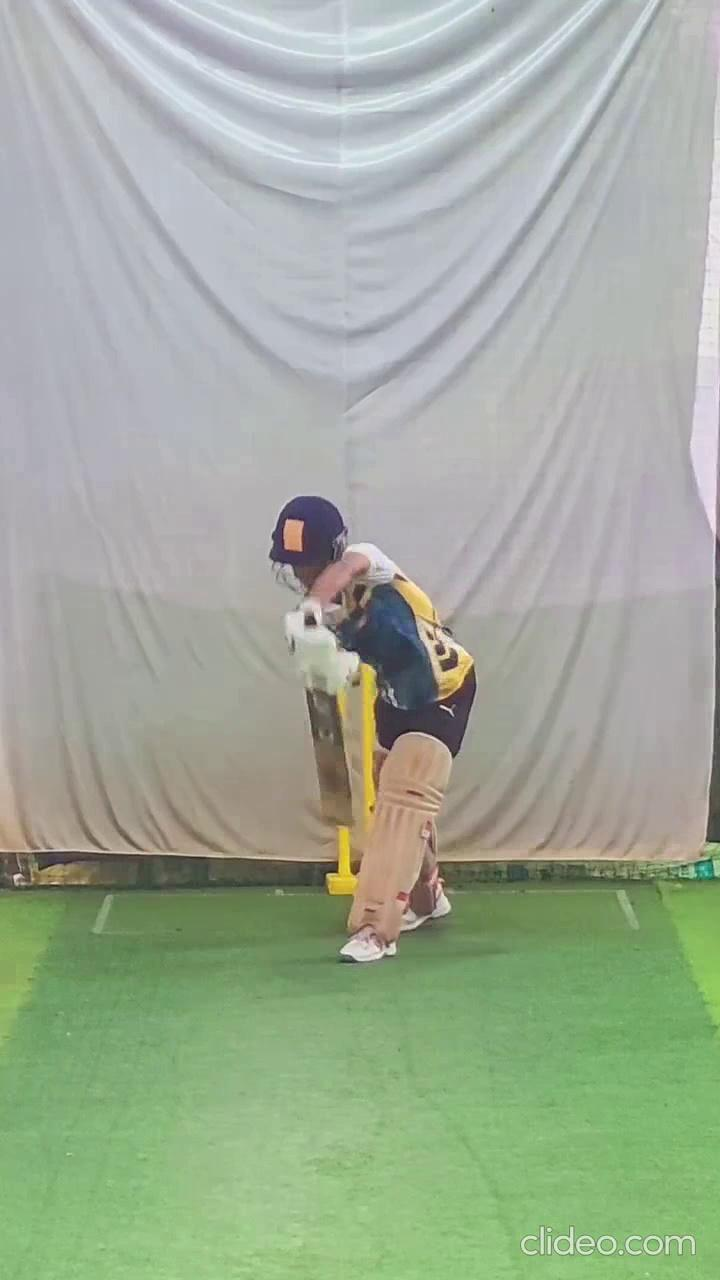bat: (301, 683, 360, 833)
